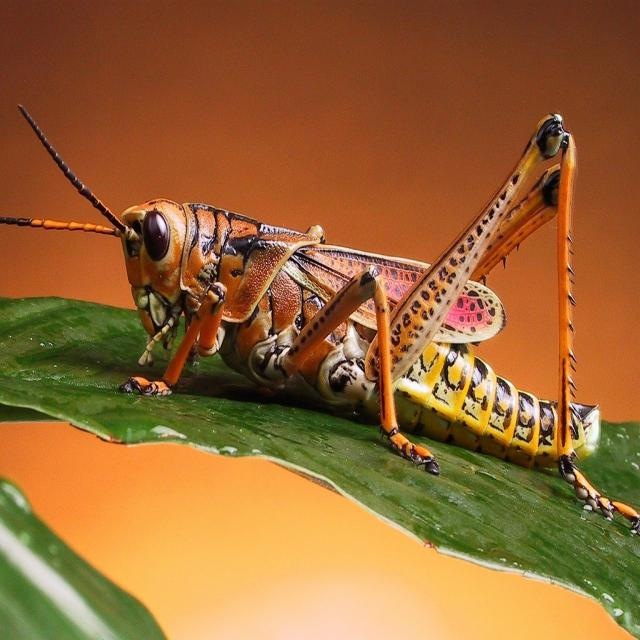ZhaMeng: (15, 78, 633, 533)
